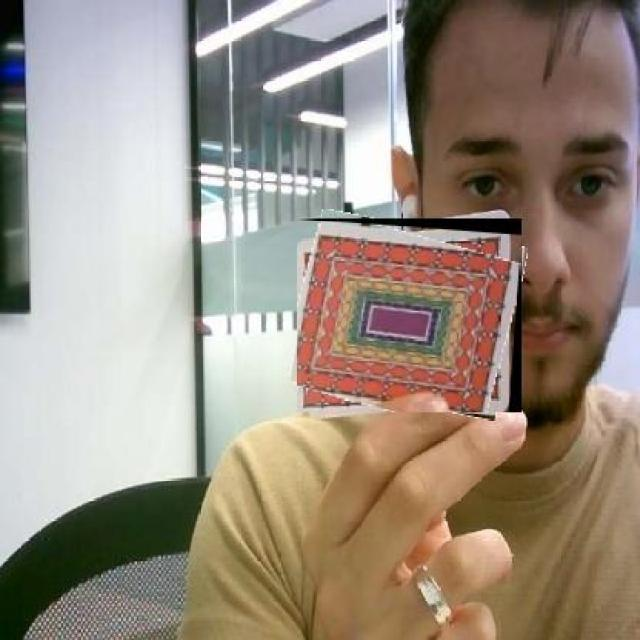BACK: (297, 218, 521, 412)
